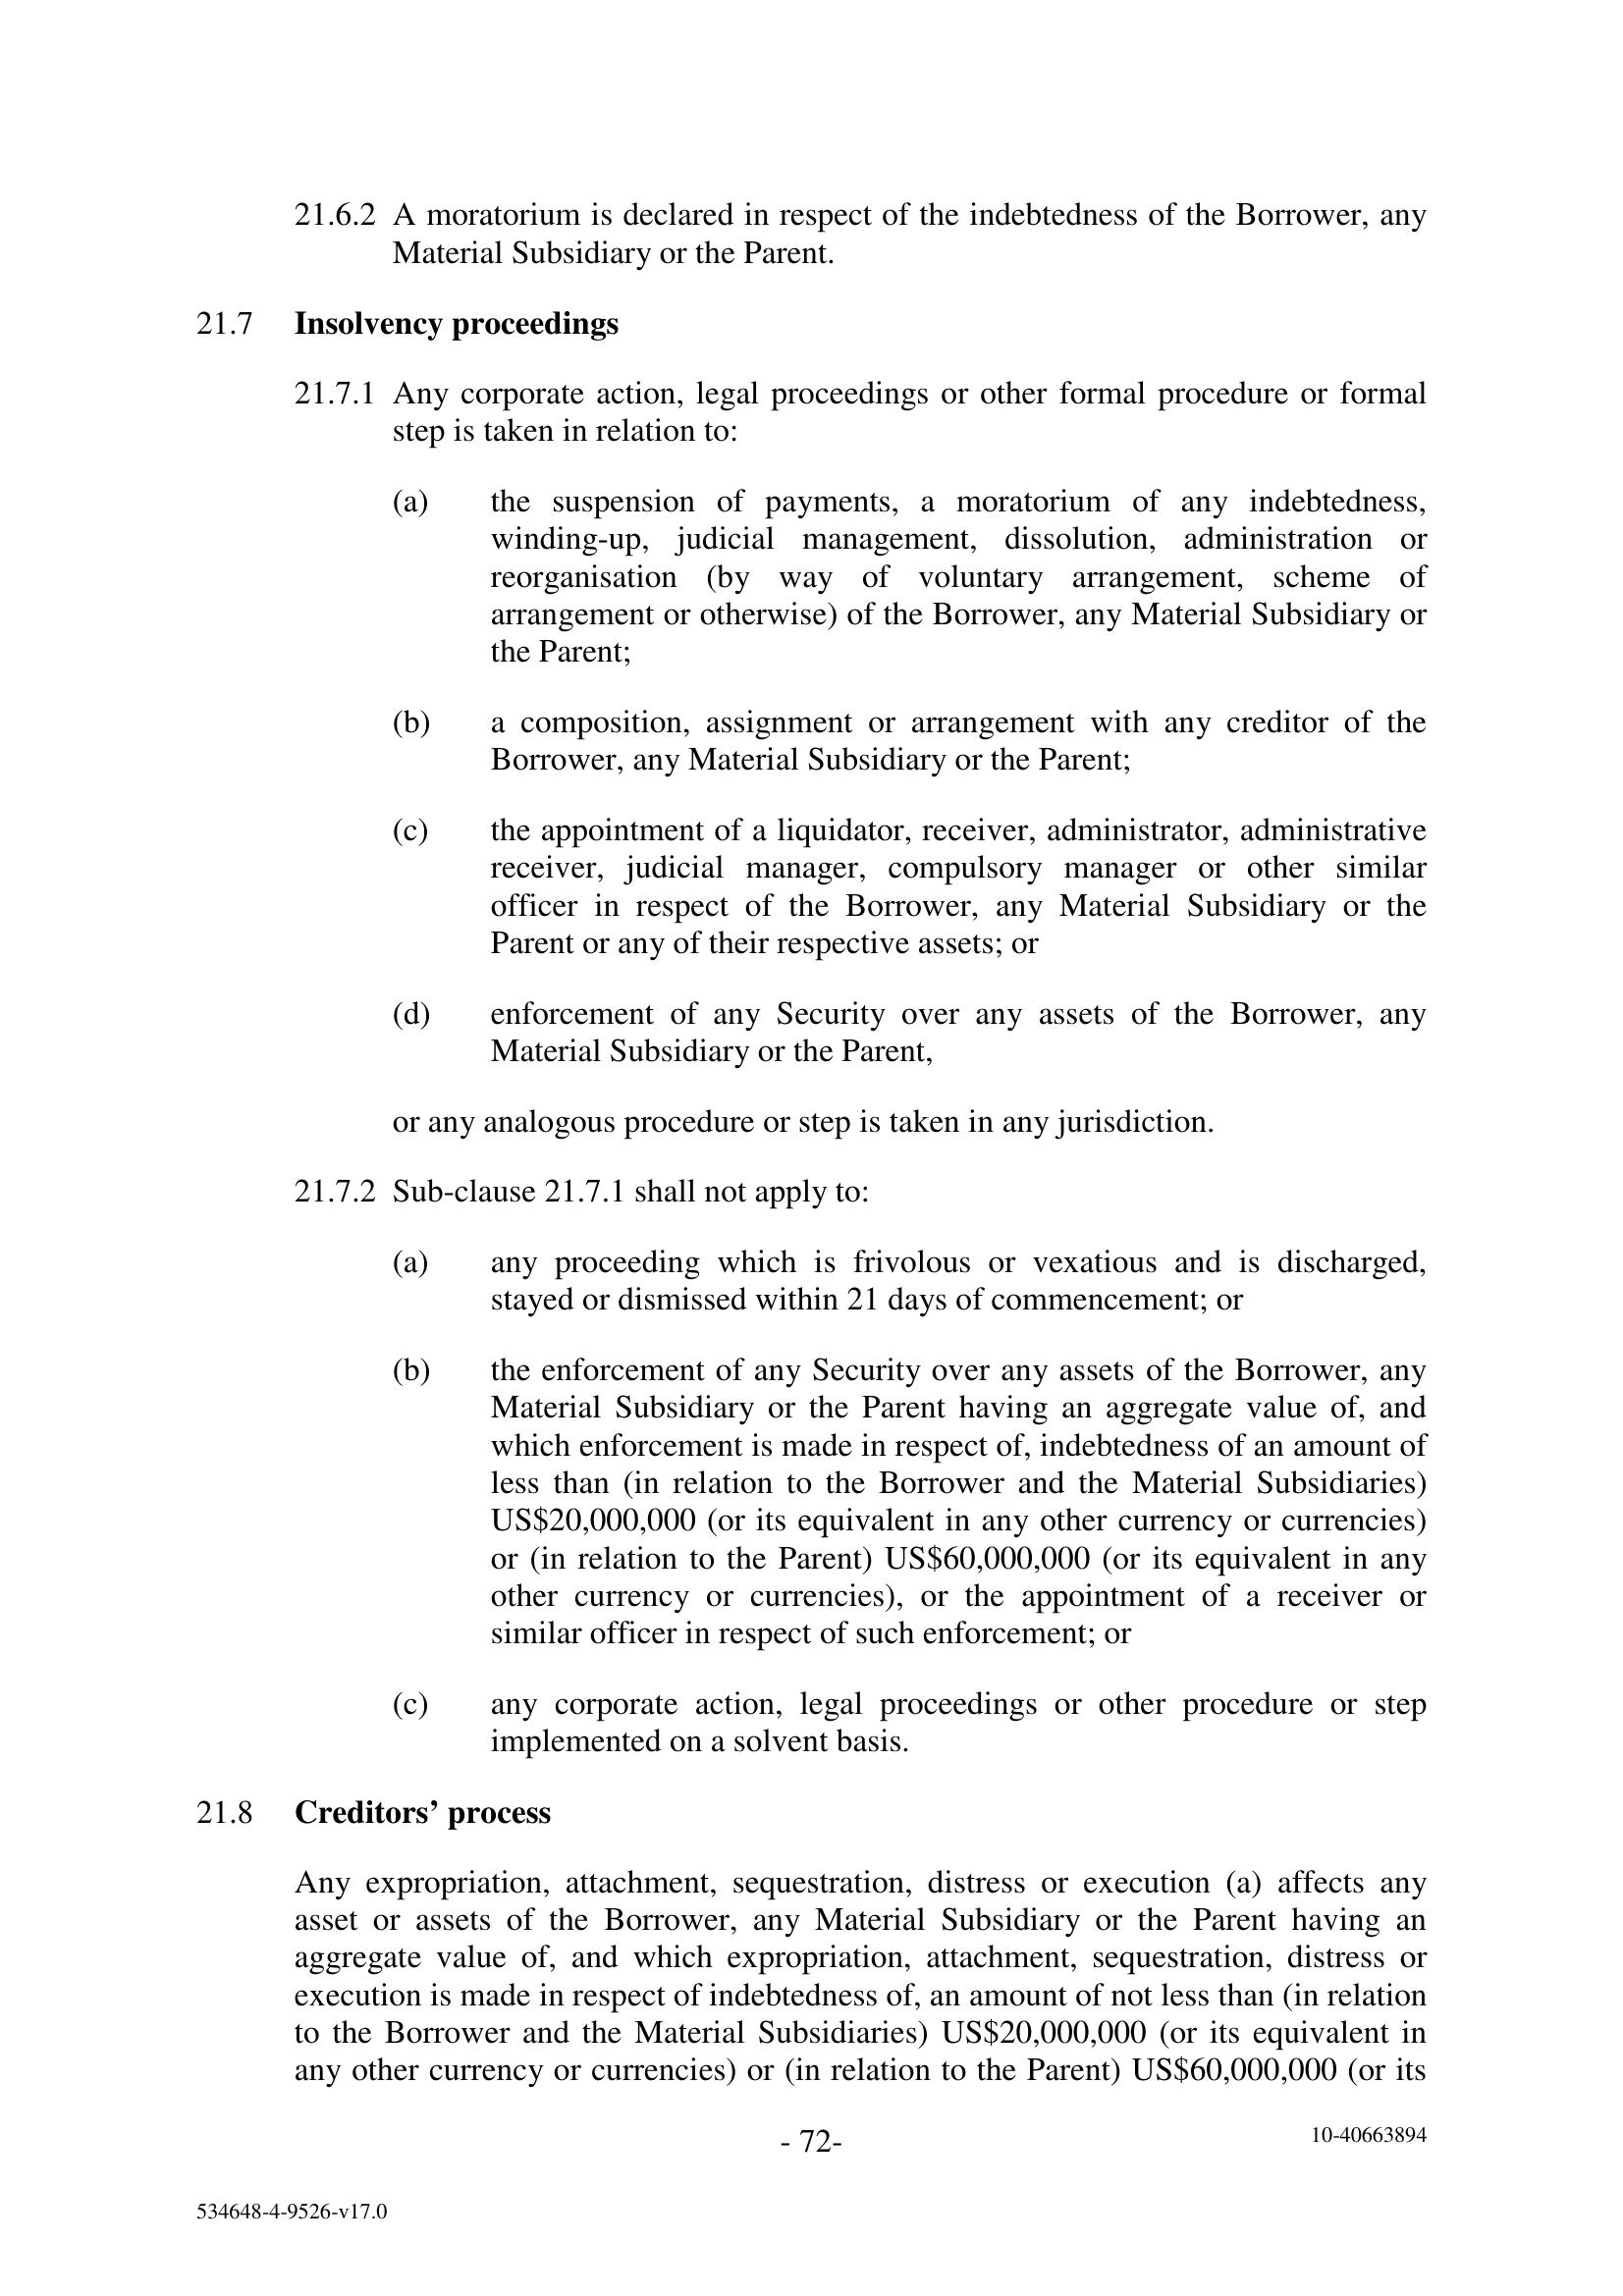pageno: (720, 2101, 889, 2198)
tag: (123, 2164, 478, 2261), (1214, 2092, 1539, 2198)
